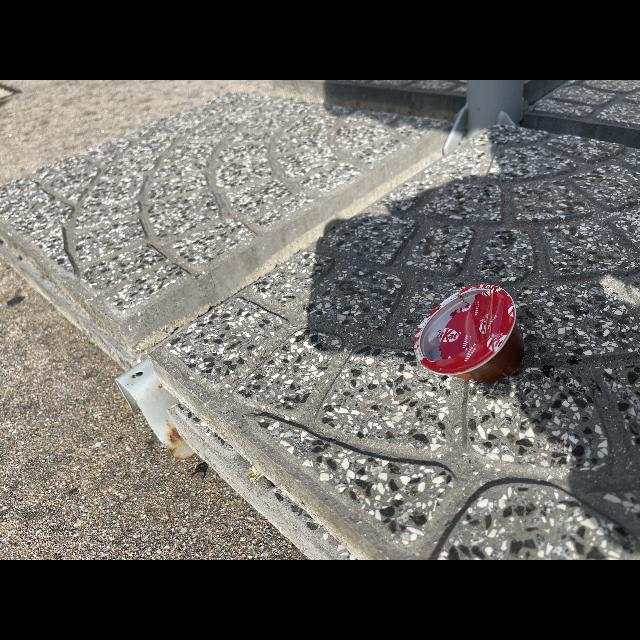damaged_capsule: (409, 281, 533, 395)
